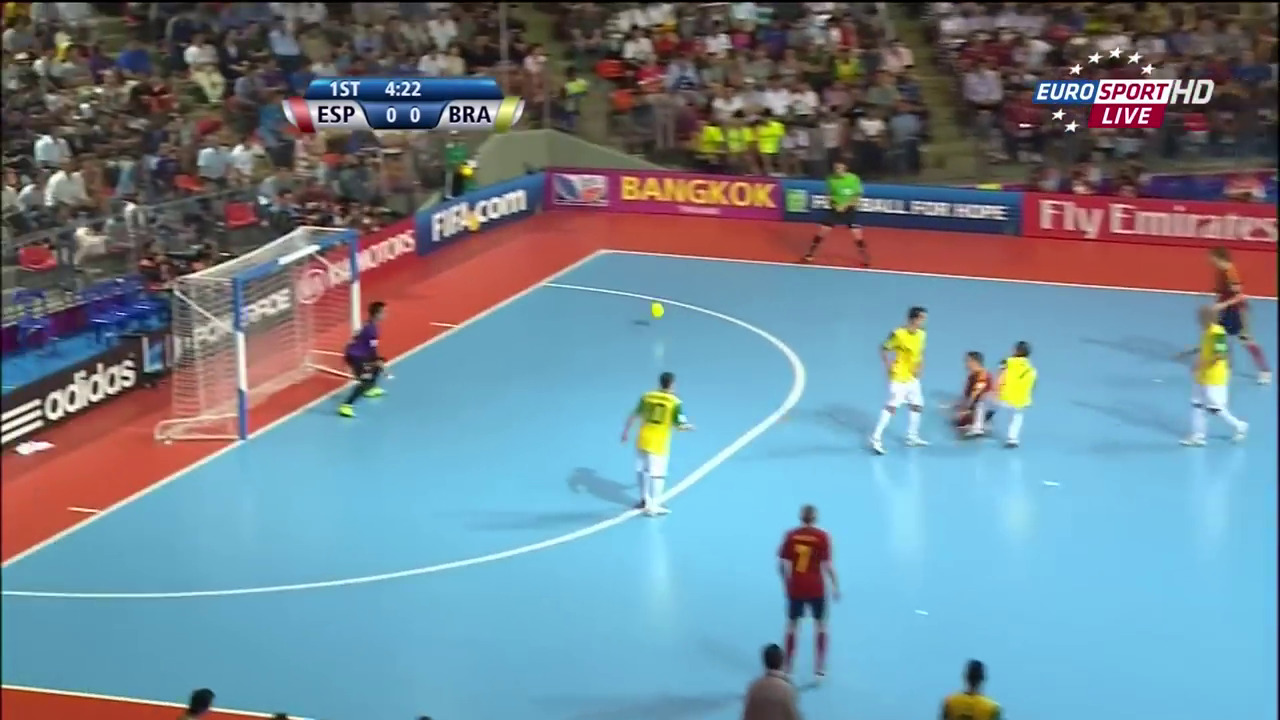ball: (646, 303, 667, 320)
person: (761, 501, 843, 682), (613, 372, 693, 521), (1195, 248, 1271, 382), (1175, 310, 1248, 446), (865, 303, 929, 458), (333, 301, 393, 420), (977, 339, 1040, 442), (948, 346, 999, 439)
